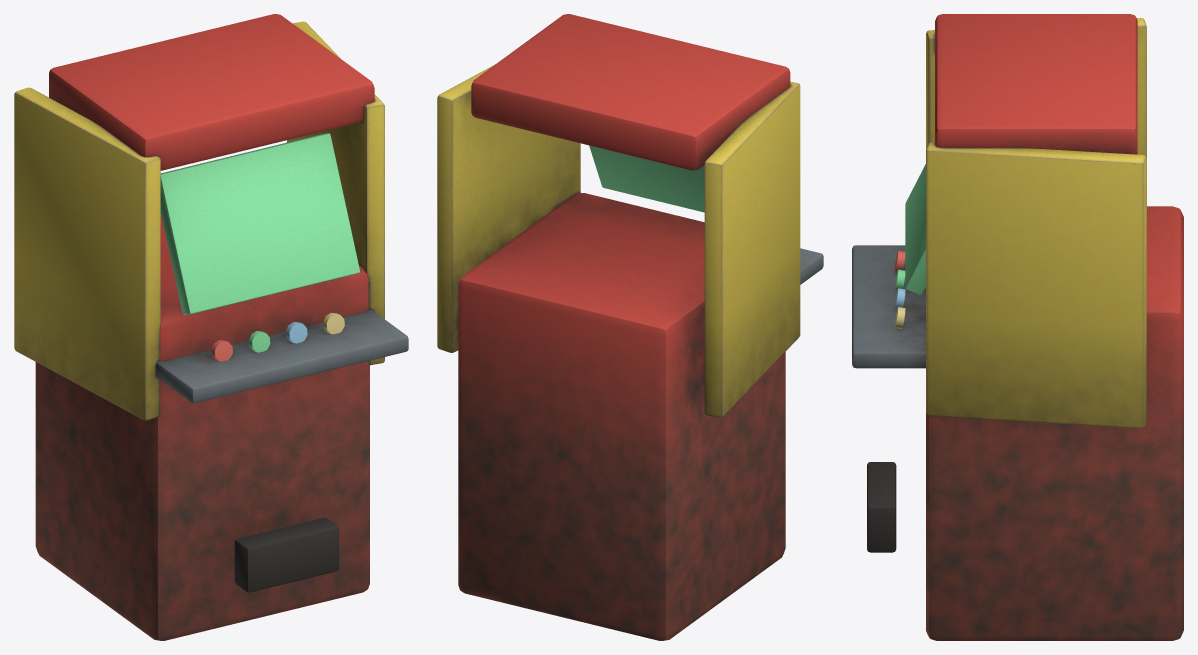
Rendered from g67_pz_arcade_b.glb.
3 renders of one model, left to right at view 1: azimuth 30°, elevation 25°; view 2: azimuth 150°, elevation 25°; view 3: azimuth 270°, elevation 25°, orthographic. The views are drawn at different scales.
Visible parts, largest first — view 1: g67_pz_arcade_b; view 2: g67_pz_arcade_b; view 3: g67_pz_arcade_b.
Part boxes in pixels (x1,y1,x2,y2): g67_pz_arcade_b: (14, 14, 408, 640); g67_pz_arcade_b: (437, 14, 823, 640); g67_pz_arcade_b: (852, 14, 1183, 640).
Bounding box in the file's own units: 0.9401 × 1.56 × 0.9.
Materials: 1 (1 with a texture image).
